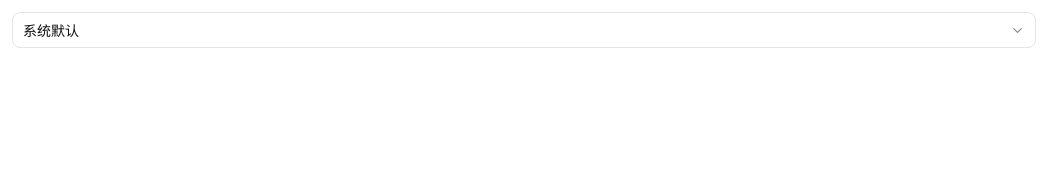
it: Select › opens the menu, selects an option, and restores focus
Click the button with aria-label "界面字体".
click(51, 30)  # box [12,12,1036,48]
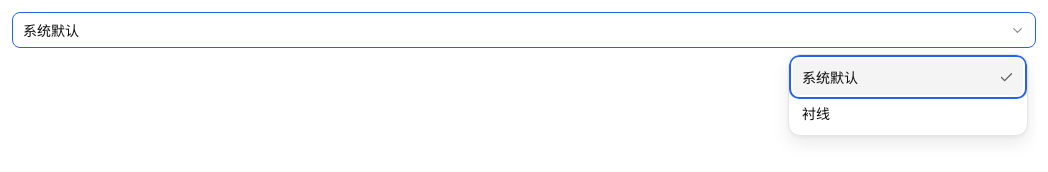
expect the menu named "界面字体" is shown: met, box [788,54,1028,136]
Click the menu item "衬线".
click(908, 113)  # box [793,95,1023,131]
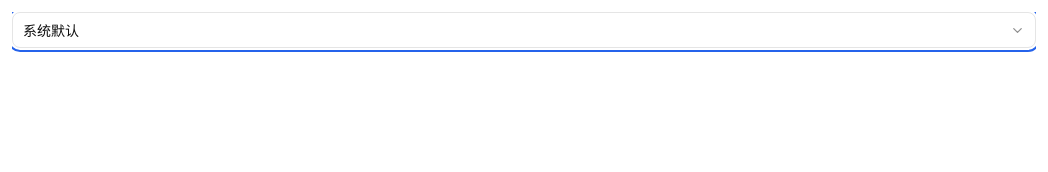
expect the menu "系统默认 衬线" is gone: met
